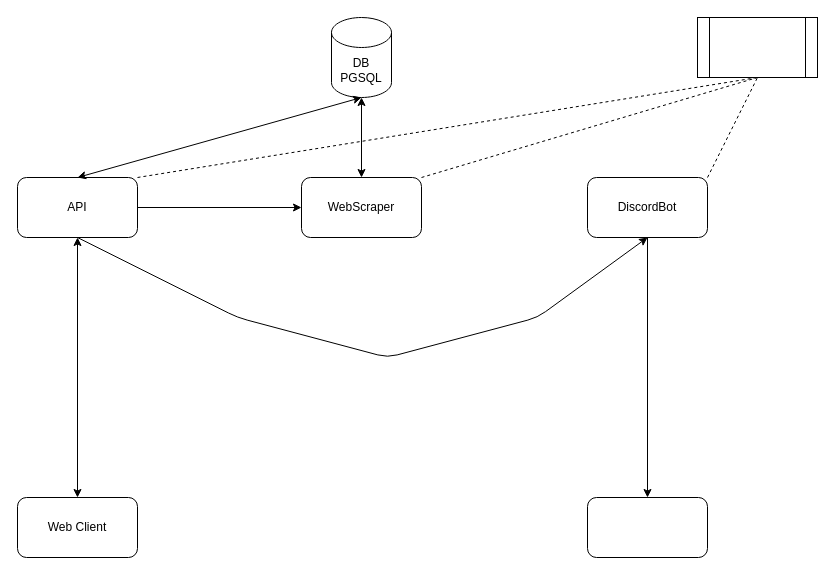
Some shapes in this 835 by 575 pixel diagram are drawn without their labels. The centre of each missing label's shape, as x and y in pixels:
Discord Client: the point at 647,527
NodeJS: the point at 757,47
